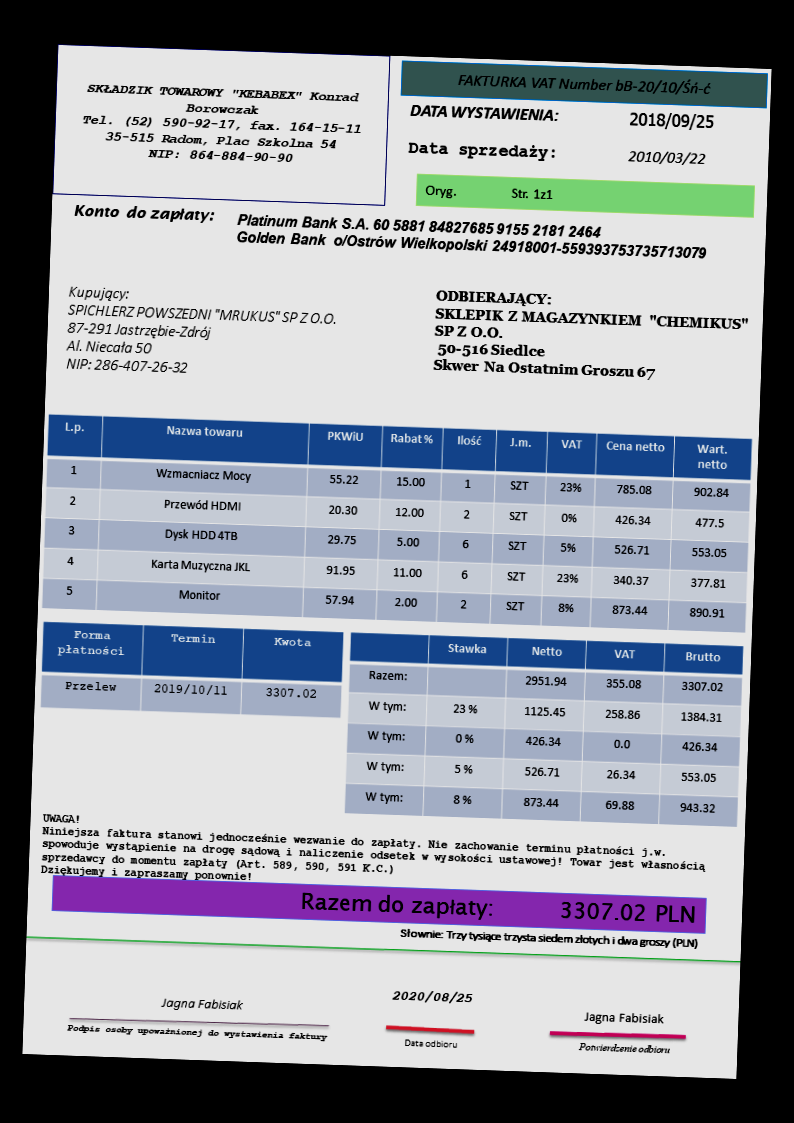Table: (40, 412, 753, 633), (344, 631, 744, 829), (38, 619, 345, 720)
TextBox: (38, 812, 707, 901), (431, 288, 749, 384), (62, 282, 338, 381), (81, 80, 365, 168), (233, 210, 709, 262), (298, 887, 697, 930), (397, 925, 700, 953), (454, 70, 715, 98), (64, 1020, 328, 1044), (406, 137, 558, 164), (70, 201, 216, 227), (407, 101, 561, 125), (422, 182, 555, 205), (626, 108, 716, 132), (576, 1039, 672, 1057), (626, 149, 708, 167), (582, 1009, 664, 1027), (159, 996, 244, 1012), (391, 989, 475, 1005), (402, 1036, 460, 1051)
